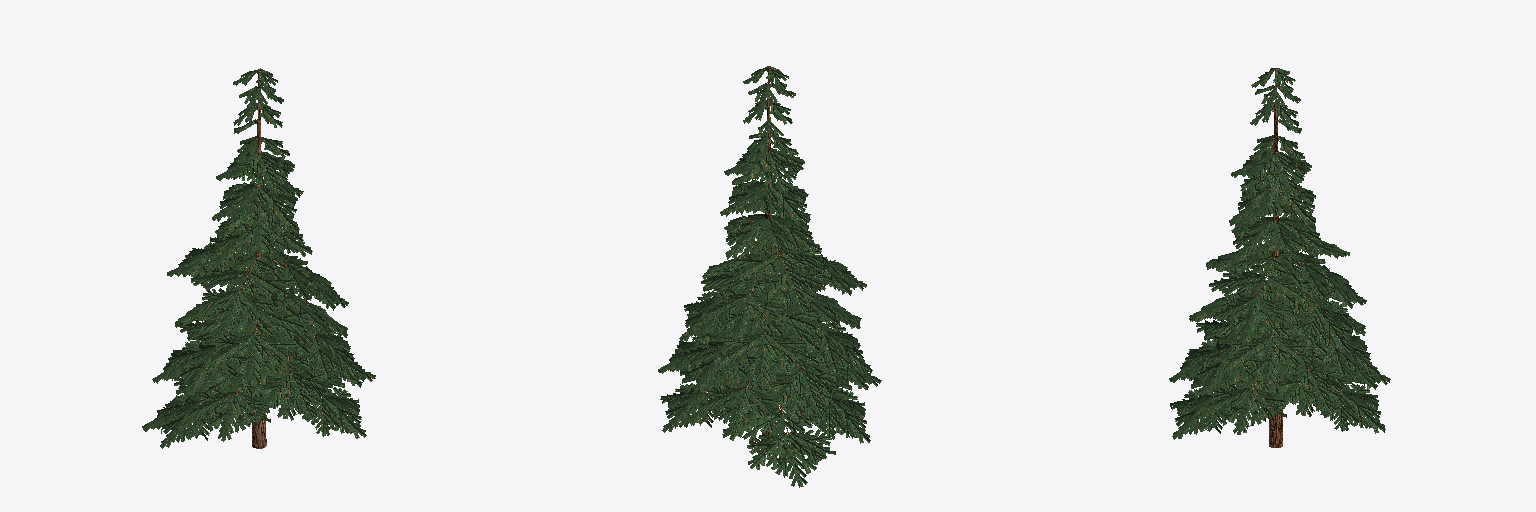
3 views of the same model, side by side, from view 1: azimuth 30°, elevation 25°; view 2: azimuth 150°, elevation 25°; view 3: azimuth 270°, elevation 25° (orthographic).
Parts seen in each view (by area): view 1: tree2; view 2: tree2; view 3: tree2.
Part boxes in pixels (bbox=[...]): tree2: bbox=[142, 68, 375, 448]; tree2: bbox=[658, 66, 881, 487]; tree2: bbox=[1169, 68, 1390, 447].
Size of the model in its own units: 218 by 396 by 211.
2 materials, 2 textured.